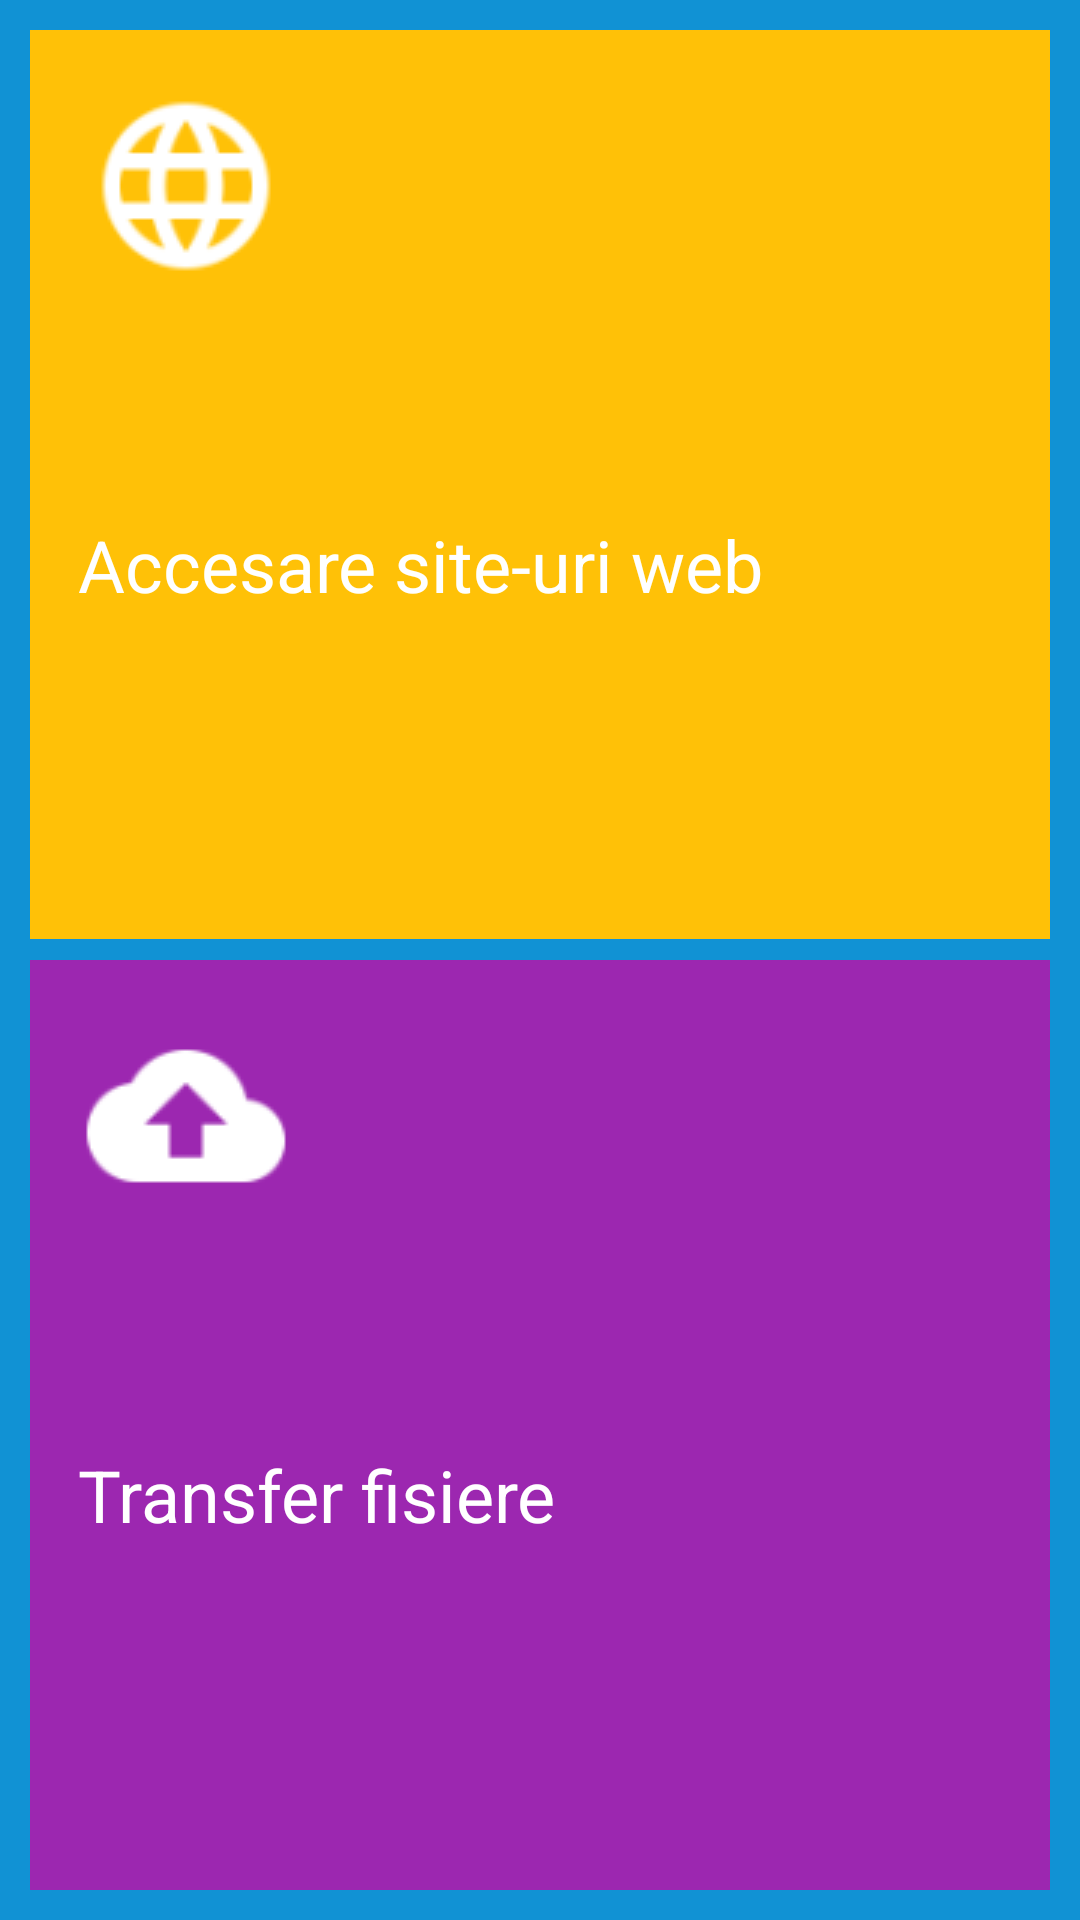

Icon click points for this 1080x1920 phone screenshot, format (x=x, y=y):
cloudicon: (x=186, y=1116)
globalicon: (x=186, y=186)
